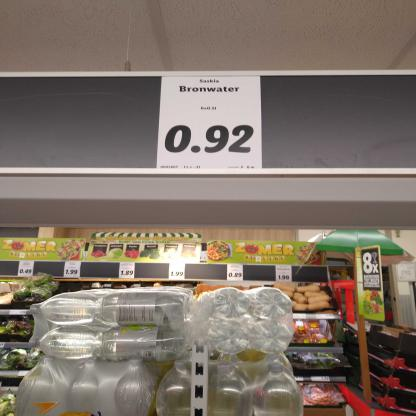prtg: (157, 77, 264, 170)
